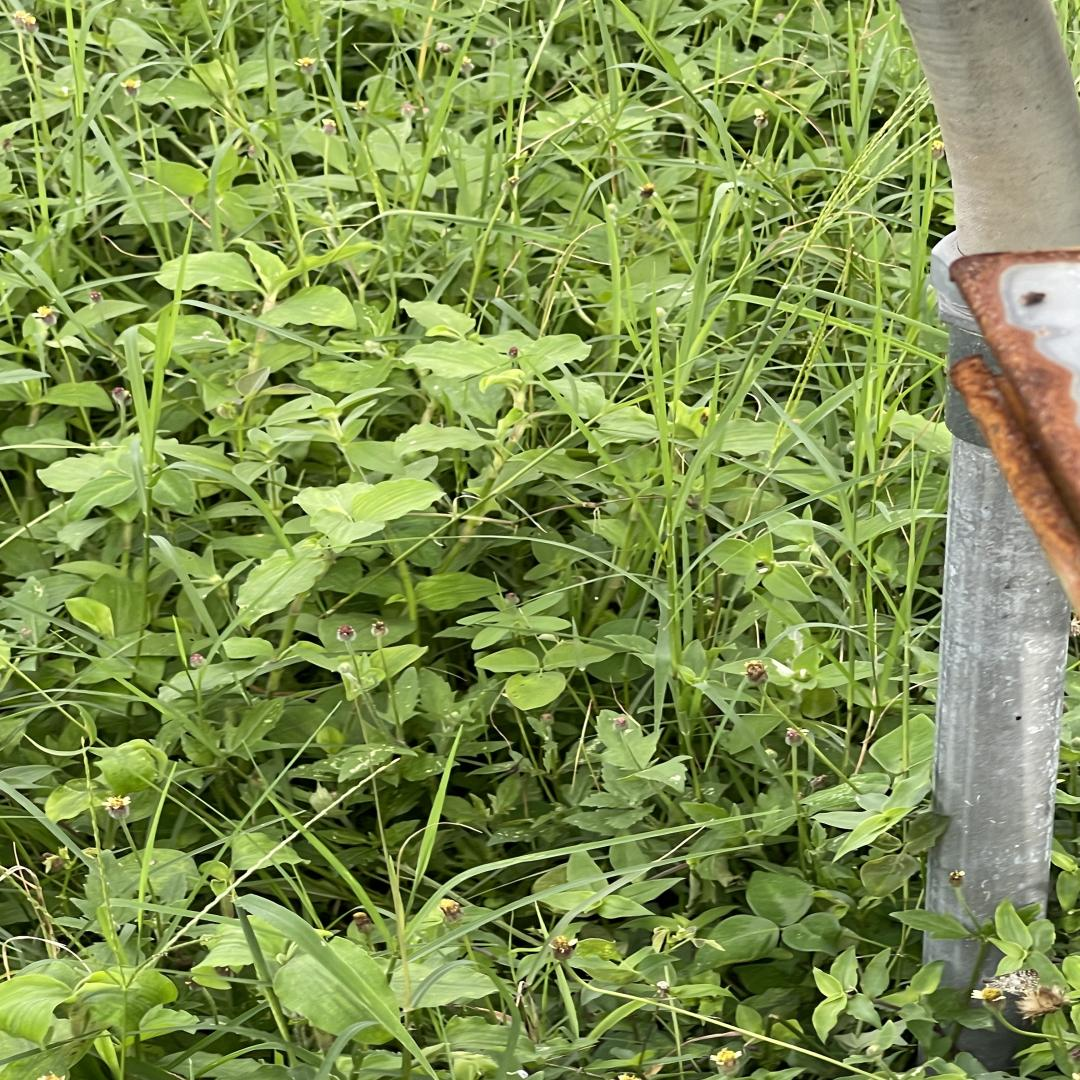Metal: (931, 231, 1080, 965)
Metal corroido: (950, 248, 1080, 621)
